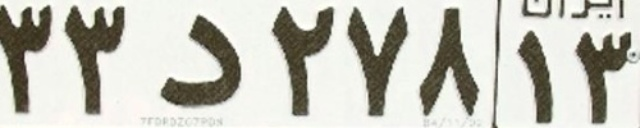1: (516, 30, 554, 123)
2: (266, 5, 336, 116)
3: (62, 2, 128, 114), (0, 2, 53, 114), (572, 30, 632, 124)
7: (344, 5, 407, 115)
8: (418, 6, 479, 115)
dal: (158, 13, 245, 108)
